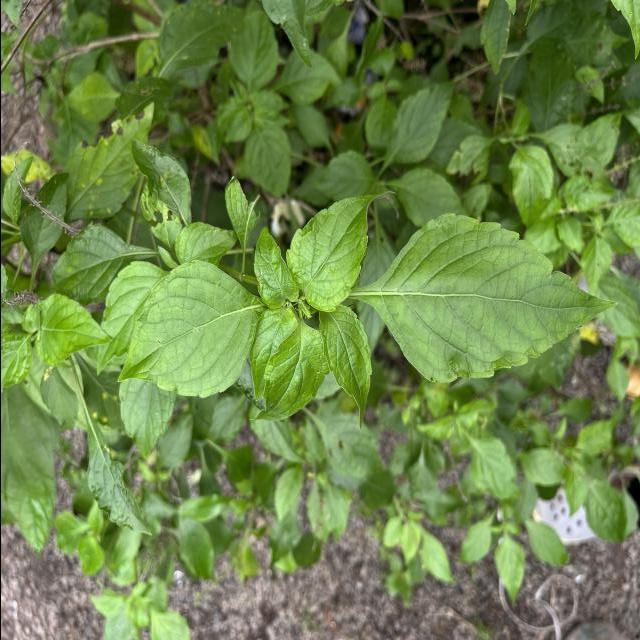Ocimum gratissimum: (358, 210, 619, 386), (110, 256, 258, 401), (284, 186, 398, 314), (72, 384, 156, 538), (244, 318, 328, 424), (314, 302, 374, 434), (35, 291, 115, 368)
